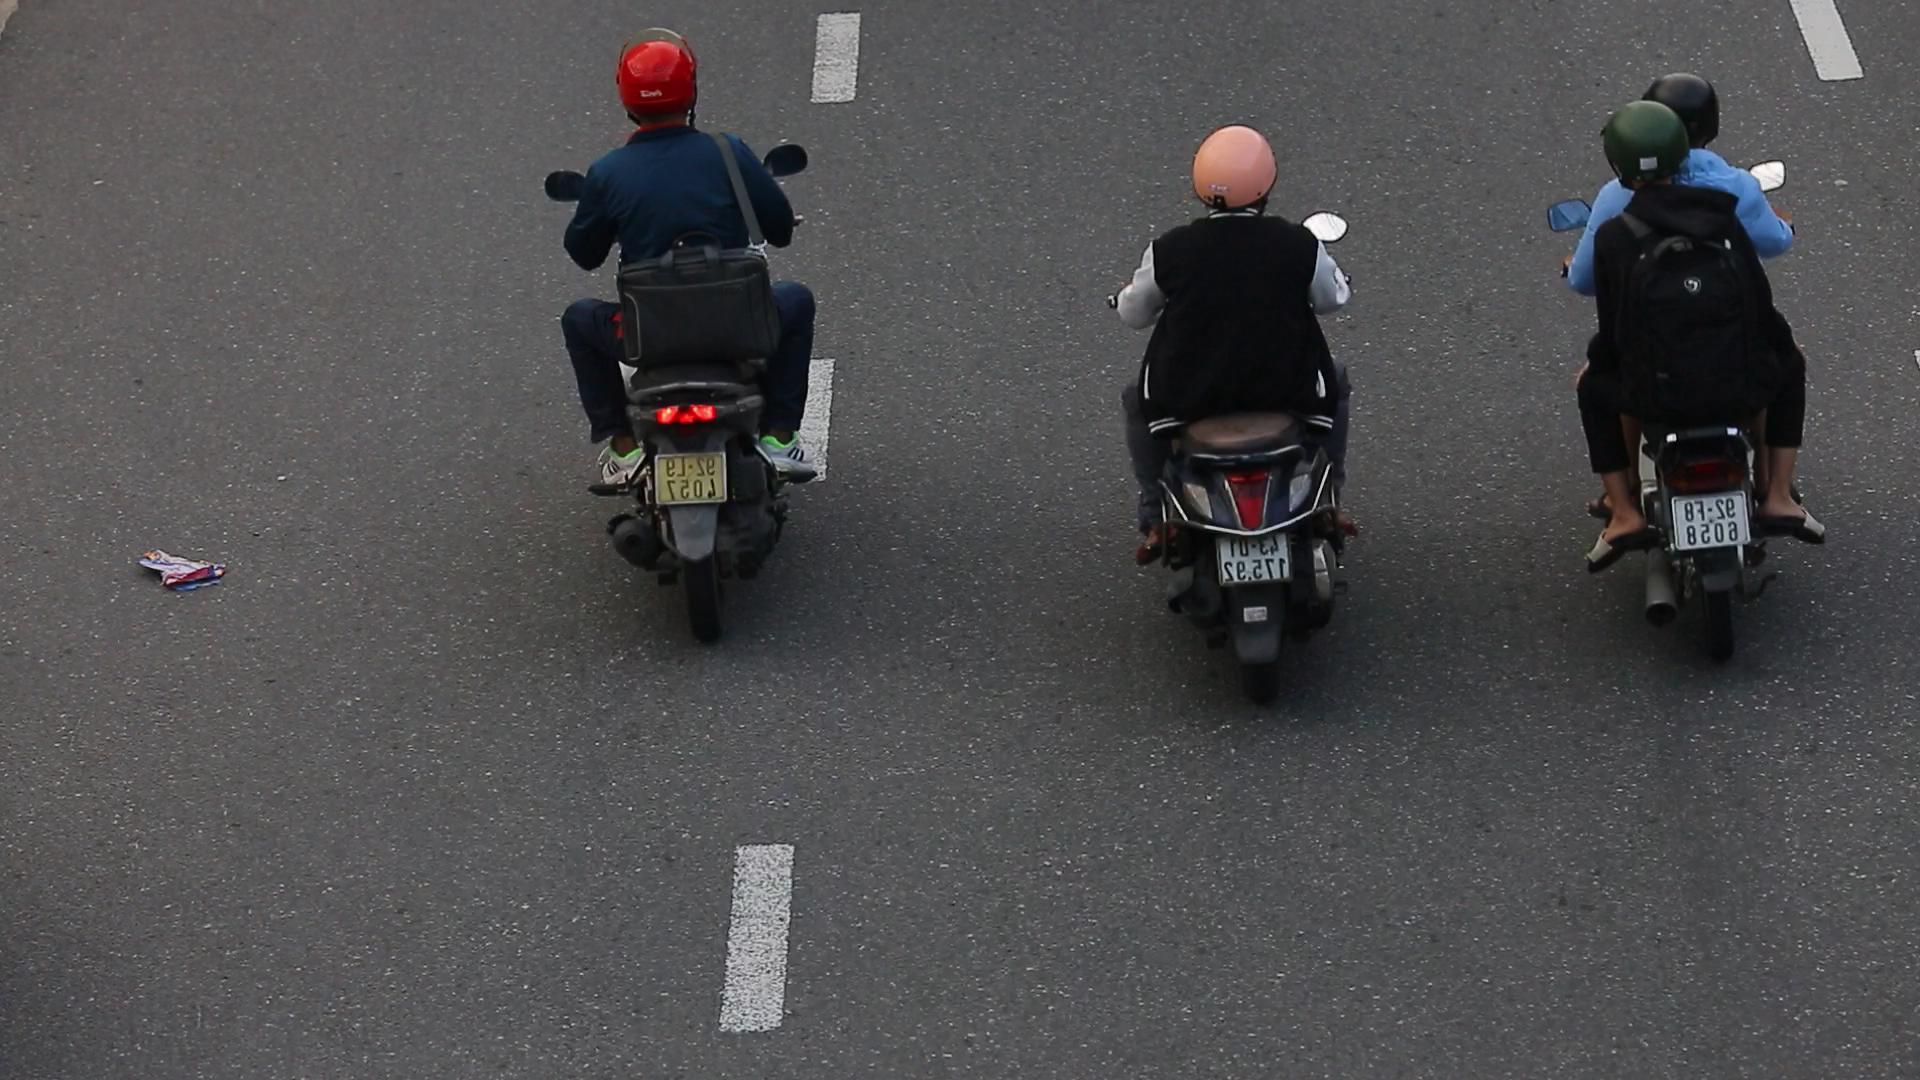motobike: (533, 26, 829, 651), (1538, 58, 1821, 673), (1096, 108, 1371, 711)
